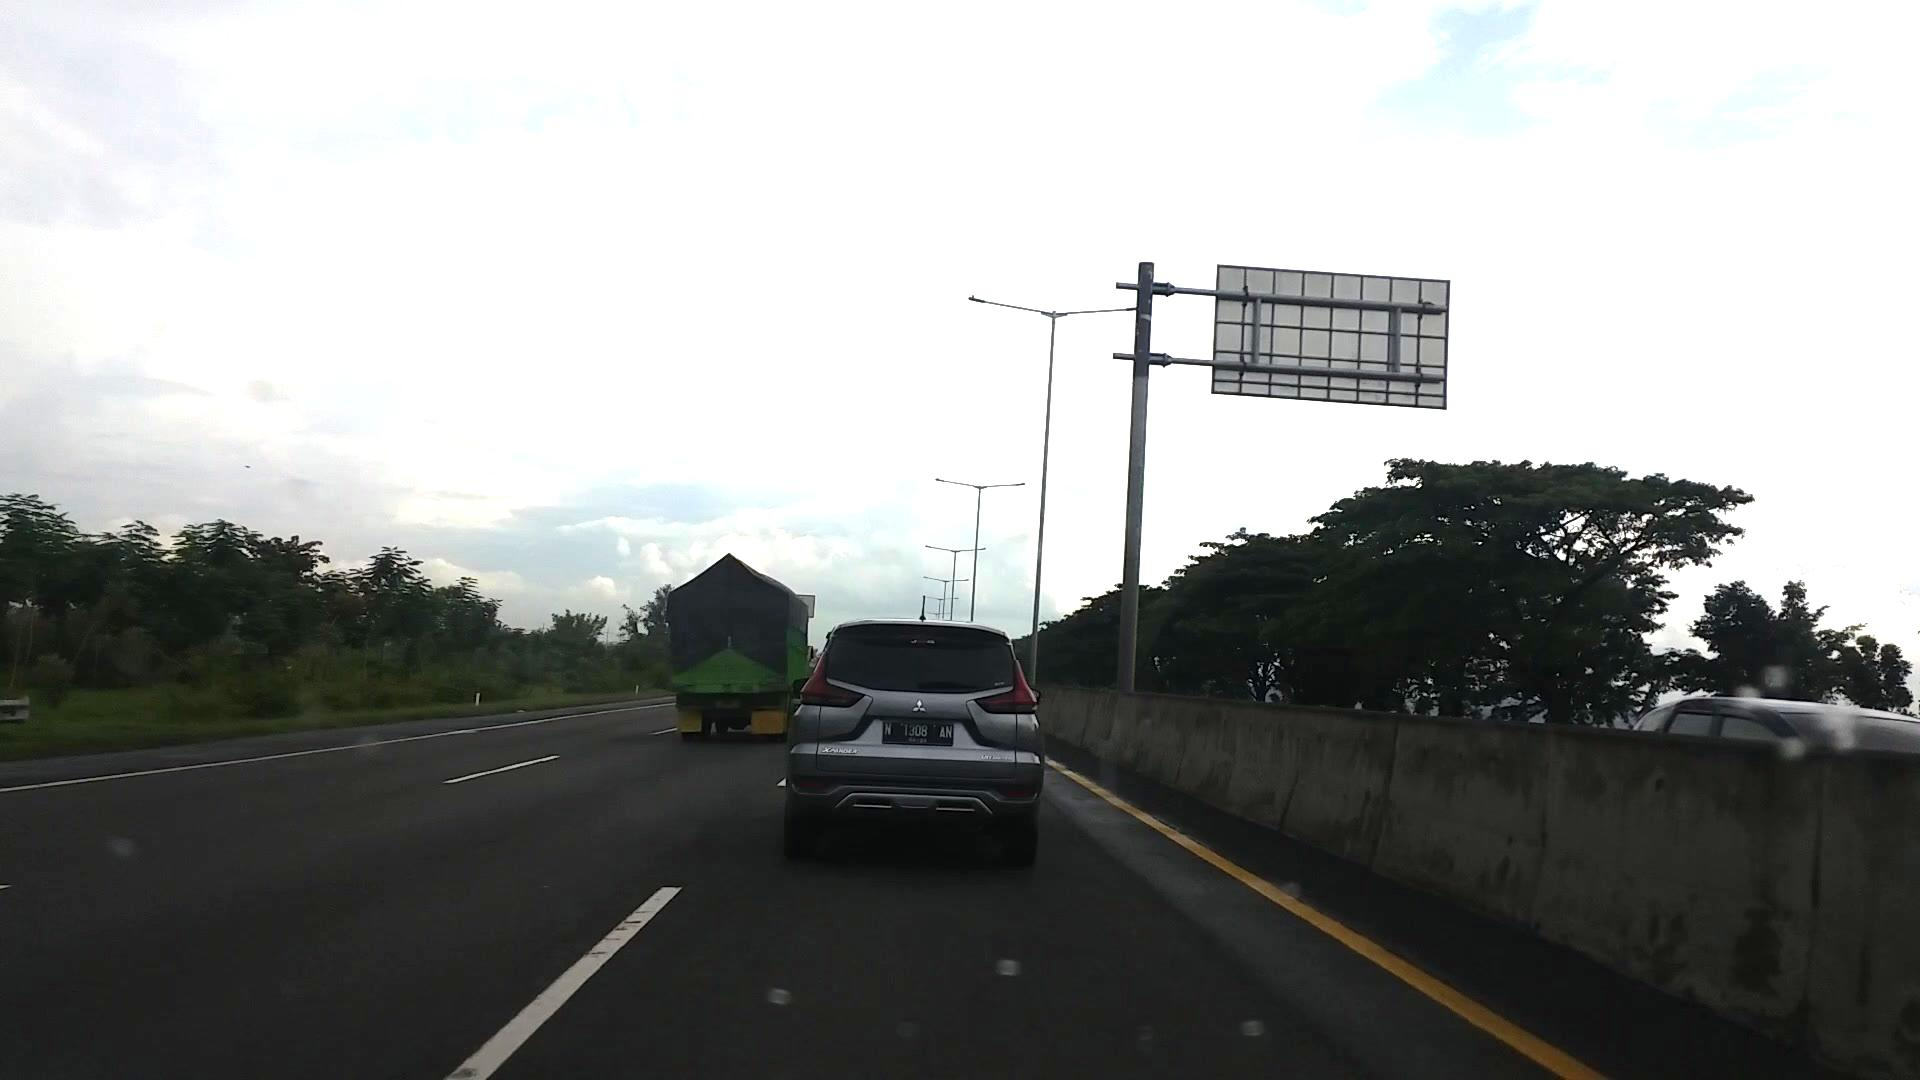plate_positive: (884, 719, 953, 746)
